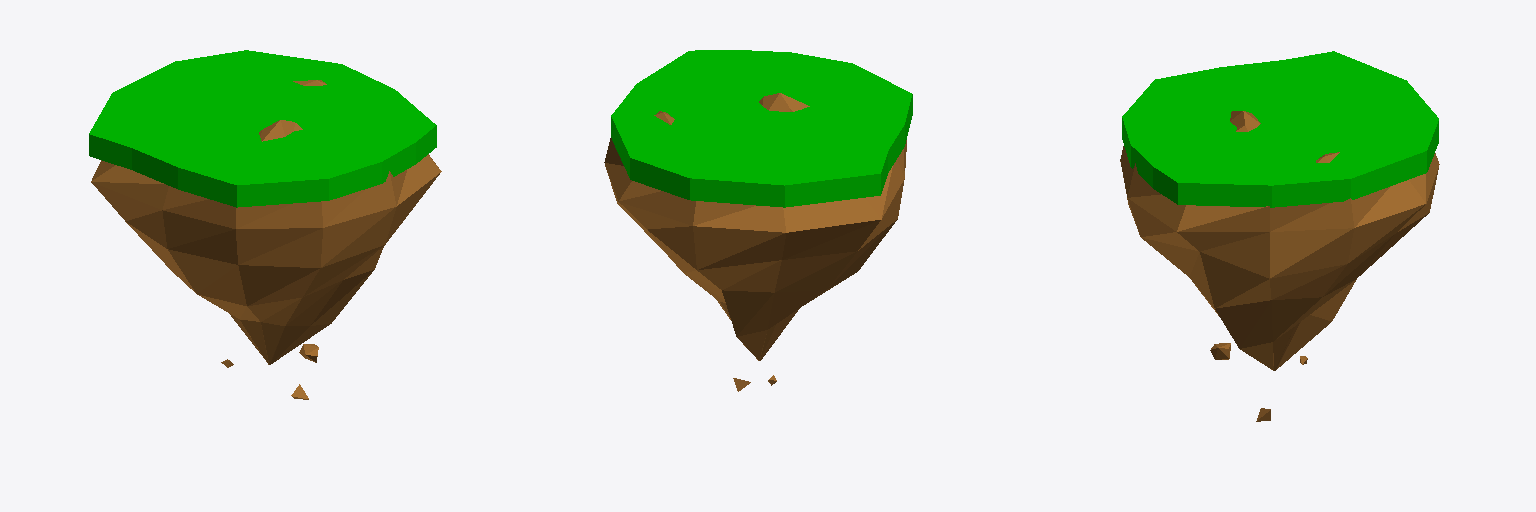
File: island.obj
3 renders of one model, left to right at view 1: azimuth 30°, elevation 25°; view 2: azimuth 150°, elevation 25°; view 3: azimuth 270°, elevation 25°, orthographic.
Visible parts, largest first — view 1: Green_platform, Island; view 2: Green_platform, Island; view 3: Green_platform, Island.
Boxes of the visible parts, box(x1,y1,x2,y2) form: Green_platform: box(89, 50, 436, 207); Island: box(91, 80, 441, 399); Green_platform: box(611, 50, 912, 207); Island: box(604, 93, 906, 391); Green_platform: box(1122, 51, 1438, 207); Island: box(1120, 111, 1439, 421).
Bounding box in the file's own units: 105 × 107 × 104.